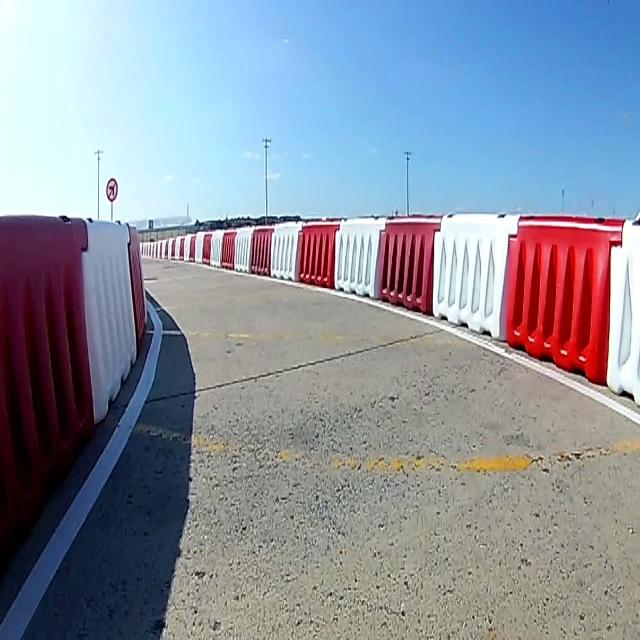soladonulmez: (106, 177, 118, 202)
